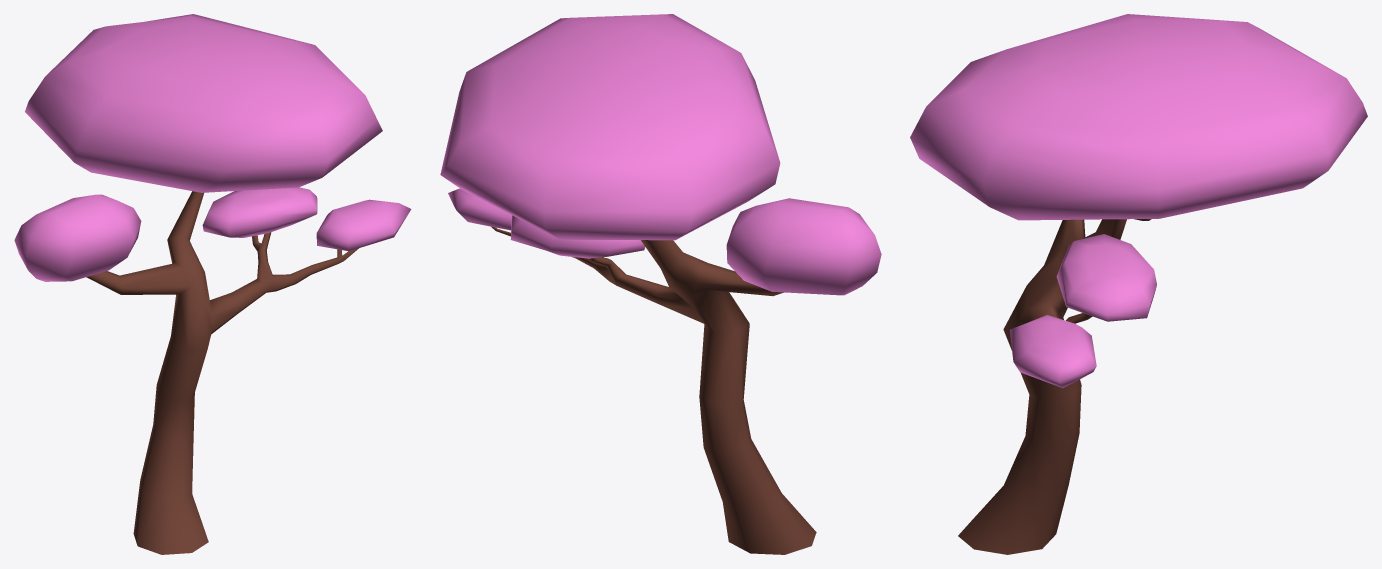
Rendered from Arvore_Cerejera_2.fbx.
3 views of the same model, side by side, from view 1: azimuth 30°, elevation 25°; view 2: azimuth 150°, elevation 25°; view 3: azimuth 270°, elevation 25° (orthographic). The views are drawn at different scales.
Visible parts, largest first — view 1: Arvore_Cerejera_2; view 2: Arvore_Cerejera_2; view 3: Arvore_Cerejera_2.
Boxes of the visible parts, x1,y1,x2,y2 form: Arvore_Cerejera_2: [14, 14, 411, 554]; Arvore_Cerejera_2: [440, 14, 881, 554]; Arvore_Cerejera_2: [910, 14, 1367, 554].
Bounding box in the file's own units: 4.31 × 5.16 × 5.55.
